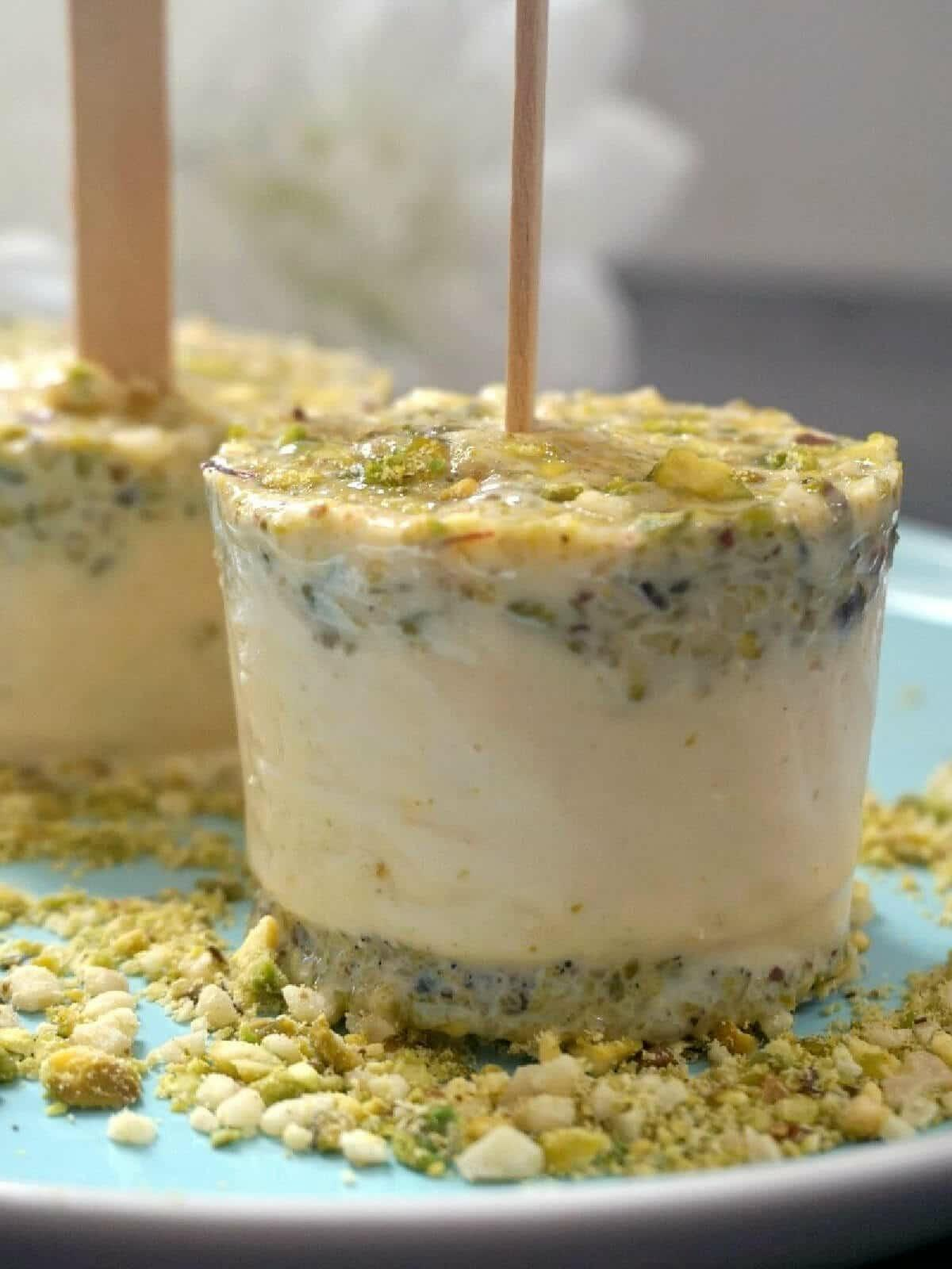Kulfi: (210, 379, 901, 1037), (0, 315, 387, 781)
